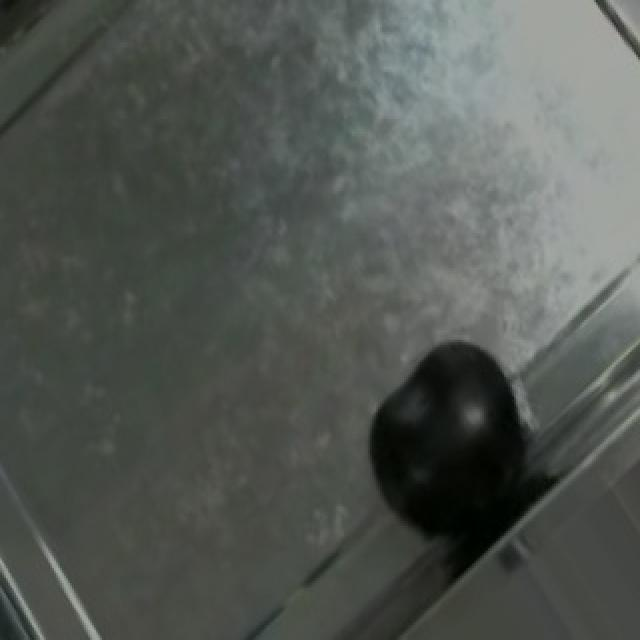Fruit: (570, 0, 640, 84)
